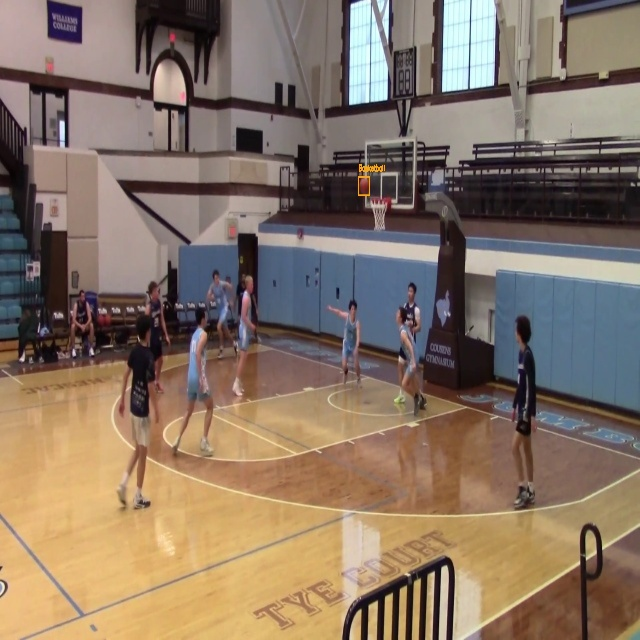Basketball: (359, 177, 369, 195)
